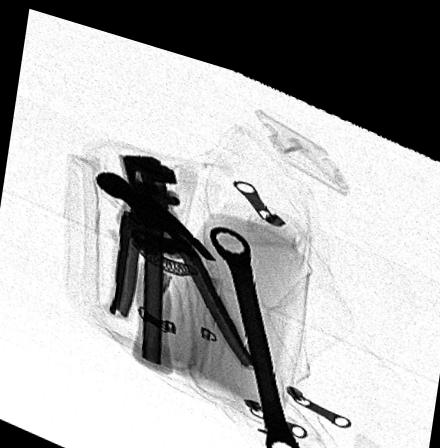Hammer: (93, 163, 221, 370)
Pliers: (104, 141, 261, 359)
Wrench: (211, 210, 302, 447)
